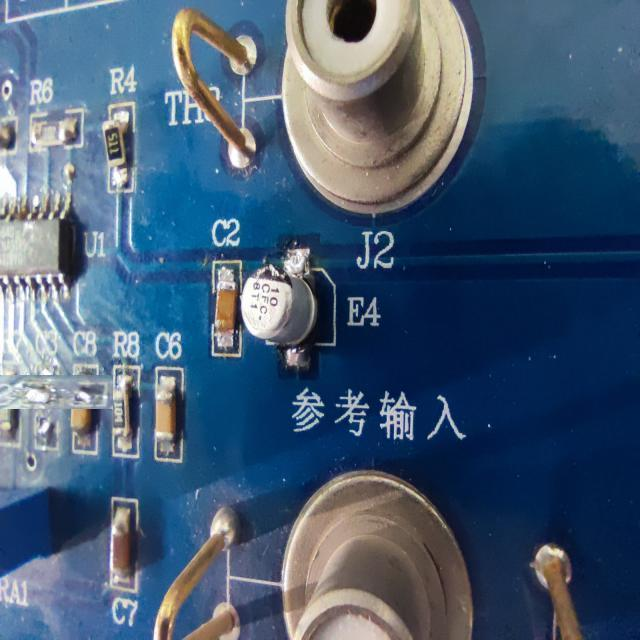miss_welding: (7, 351, 90, 433)
